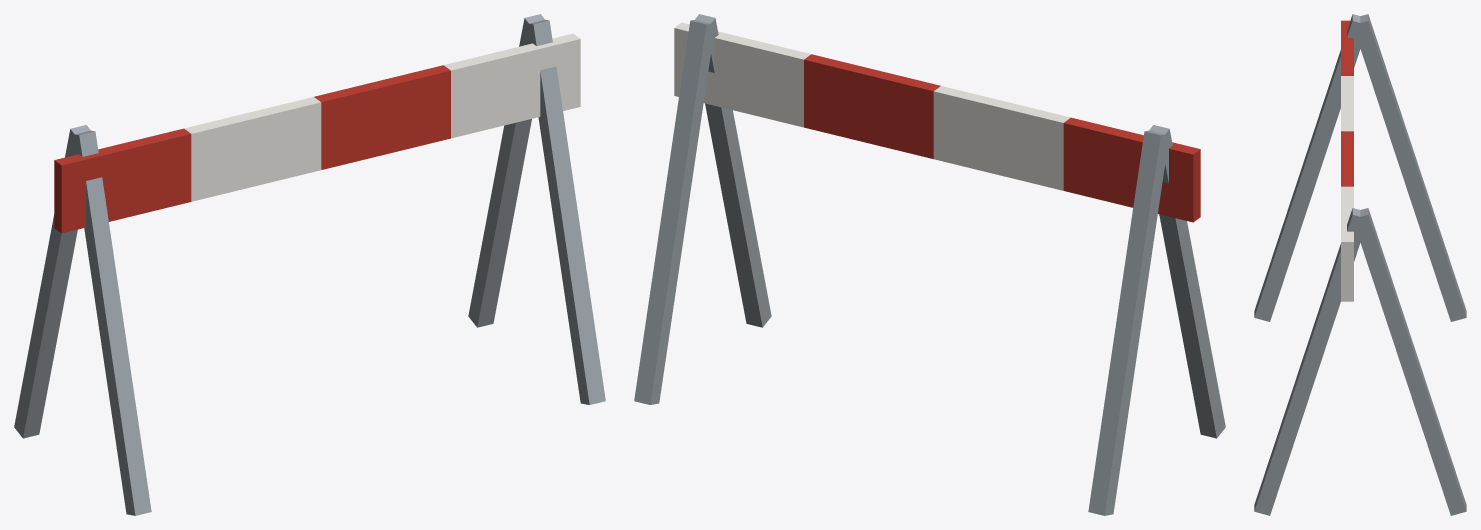
File: Barrier_Sawhorse.glb
3 renders of one model, left to right at view 1: azimuth 30°, elevation 25°; view 2: azimuth 150°, elevation 25°; view 3: azimuth 270°, elevation 25°, orthographic. The views are drawn at different scales.
Visible parts, largest first — view 1: Barrier_Sawhorse_Metal, Barrier_Sawhorse_SignRed, Barrier_Sawhorse_PaintWhite; view 2: Barrier_Sawhorse_Metal, Barrier_Sawhorse_SignRed, Barrier_Sawhorse_PaintWhite; view 3: Barrier_Sawhorse_Metal, Barrier_Sawhorse_PaintWhite, Barrier_Sawhorse_SignRed.
Part boxes in pixels (left/top/right/bottom): Barrier_Sawhorse_Metal: left=14, top=14, right=605, bottom=515; Barrier_Sawhorse_SignRed: left=54, top=65, right=450, bottom=233; Barrier_Sawhorse_PaintWhite: left=184, top=33, right=580, bottom=201; Barrier_Sawhorse_Metal: left=634, top=14, right=1225, bottom=515; Barrier_Sawhorse_SignRed: left=804, top=54, right=1200, bottom=222; Barrier_Sawhorse_PaintWhite: left=674, top=22, right=1070, bottom=190; Barrier_Sawhorse_Metal: left=1254, top=14, right=1466, bottom=515; Barrier_Sawhorse_PaintWhite: left=1341, top=76, right=1353, bottom=301; Barrier_Sawhorse_SignRed: left=1341, top=20, right=1353, bottom=186.
Bounding box in the file's own units: 1.6 × 1.01 × 0.6479.
